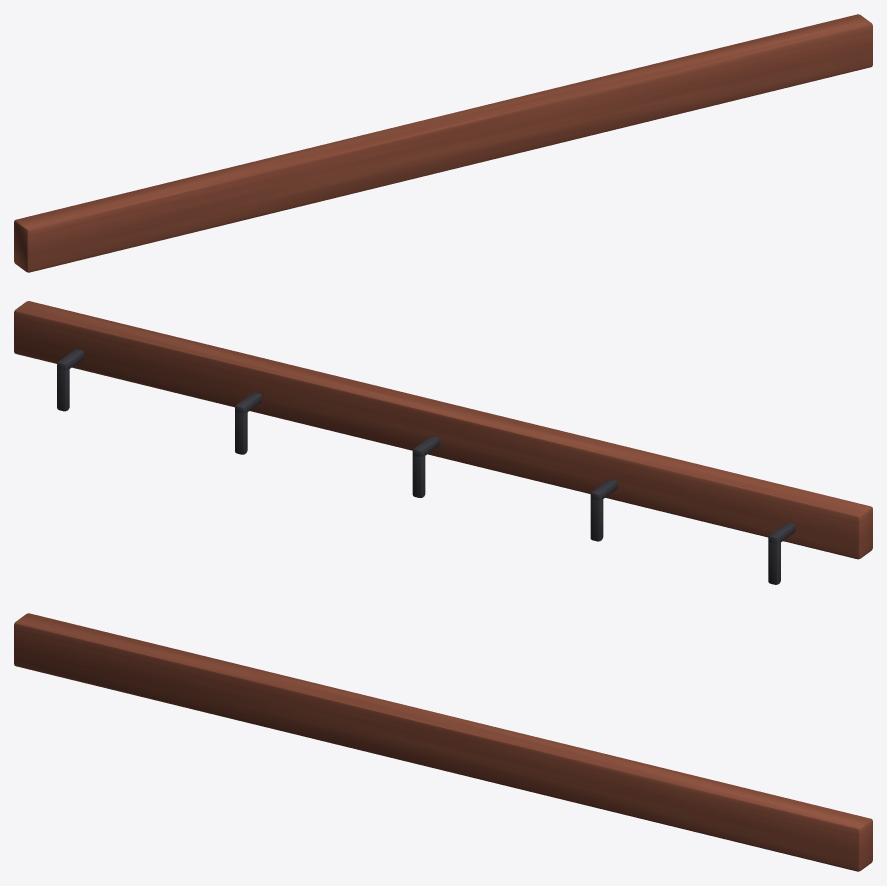
Rendered from SM_Rail_Pan.fbx.
3 renders of one model, top to bottom at view 1: azimuth 30°, elevation 25°; view 2: azimuth 150°, elevation 25°; view 3: azimuth 330°, elevation 25°, orthographic.
Parts seen in each view (by area): view 1: SM_Rail_Pan; view 2: SM_Rail_Pan; view 3: SM_Rail_Pan.
Boxes of the visible parts, x1,y1,x2,y2 form: SM_Rail_Pan: [14, 14, 872, 272]; SM_Rail_Pan: [14, 301, 872, 584]; SM_Rail_Pan: [14, 613, 872, 871].
Bounding box in the file's own units: 1 × 0.08 × 0.07.
Materials: 2 (2 with a texture image).
